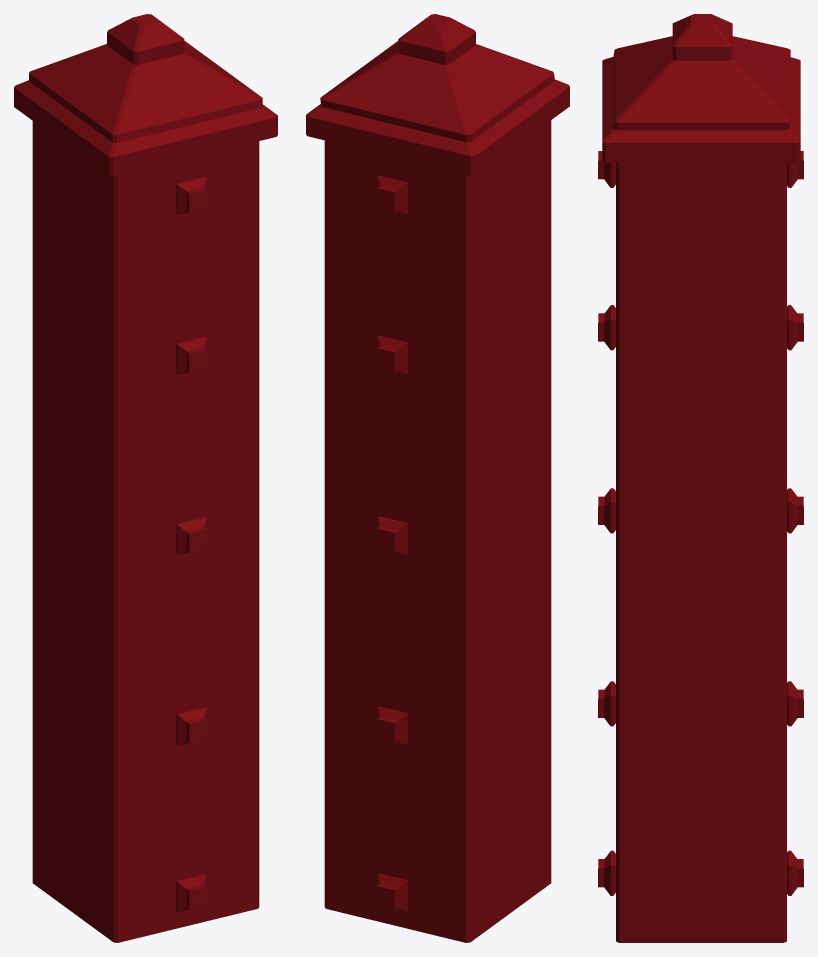
File: SM_MH_01_Wood_GuardRail_01_Pillar_01.fbx
The picture shows the model from 3 angles, left to right: view 1: azimuth 30°, elevation 25°; view 2: azimuth 150°, elevation 25°; view 3: azimuth 270°, elevation 25°; orthographic projection.
Visible parts, largest first — view 1: SM_MH_01_Wood_GuardRail_01_Pillar_01_LOD0; view 2: SM_MH_01_Wood_GuardRail_01_Pillar_01_LOD0; view 3: SM_MH_01_Wood_GuardRail_01_Pillar_01_LOD0.
Boxes of the visible parts, x1,y1,x2,y2 form: SM_MH_01_Wood_GuardRail_01_Pillar_01_LOD0: [14, 14, 277, 942]; SM_MH_01_Wood_GuardRail_01_Pillar_01_LOD0: [306, 14, 569, 942]; SM_MH_01_Wood_GuardRail_01_Pillar_01_LOD0: [598, 14, 803, 942].
Size of what is drawn, in the model's own units: 23.24 by 115 by 24.12.
